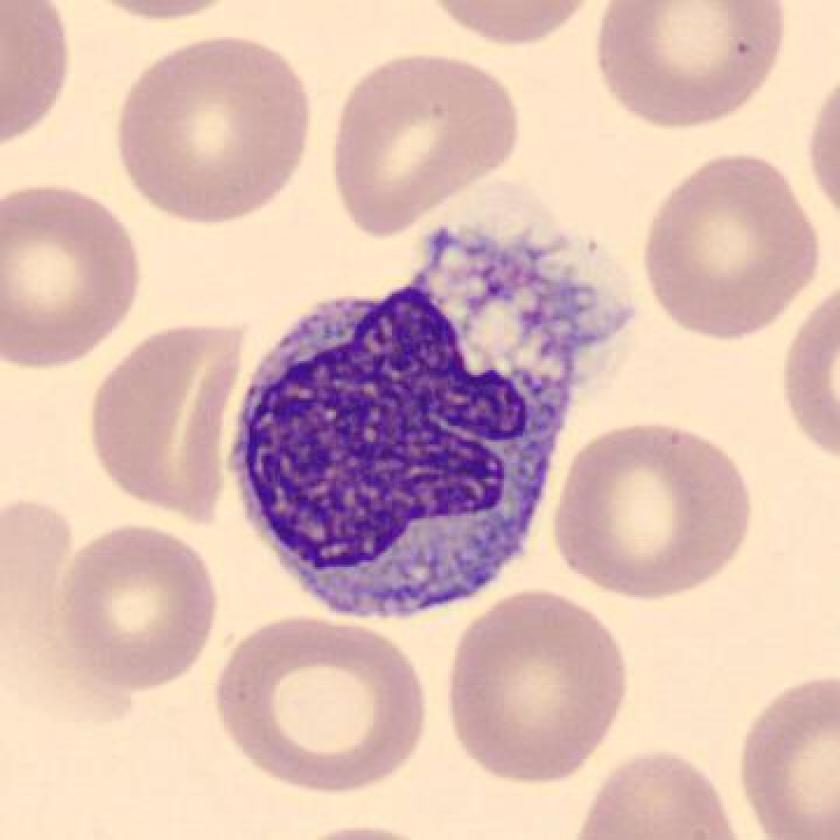monocyte: (209, 191, 654, 642)
